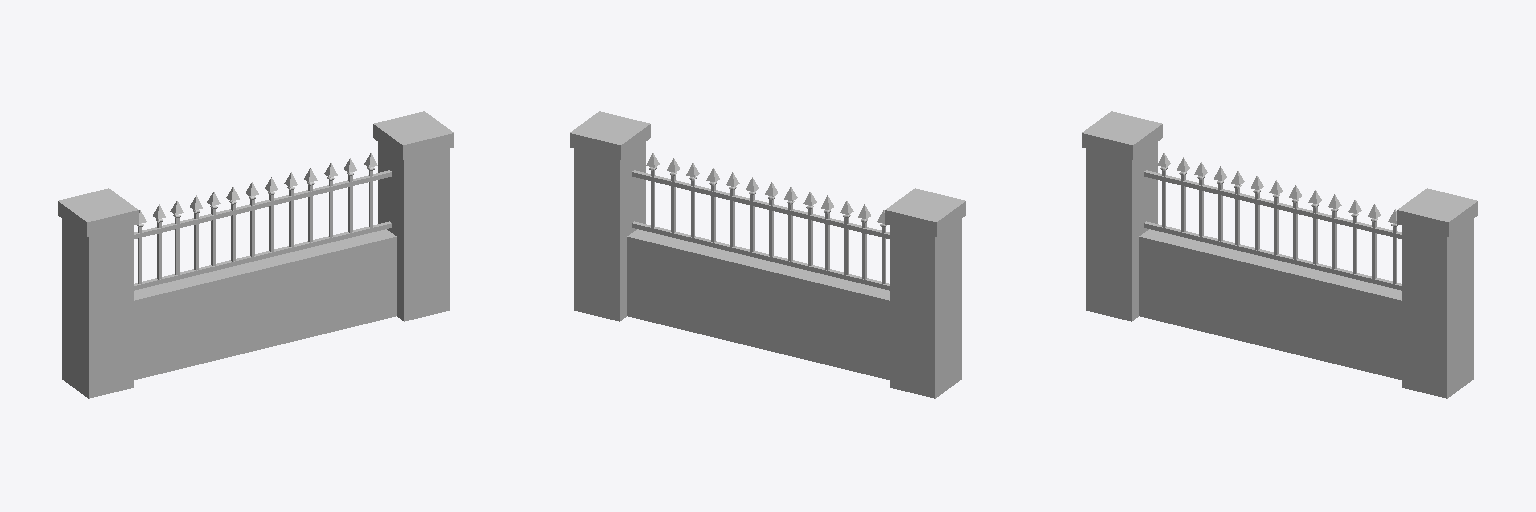
The model's file is wall.obj.
3 renders of one model, left to right at view 1: azimuth 30°, elevation 25°; view 2: azimuth 150°, elevation 25°; view 3: azimuth 330°, elevation 25°, orthographic.
Parts seen in each view (by area): view 1: pCube21.1; view 2: pCube21.1; view 3: pCube21.1.
Boxes of the visible parts, x1,y1,x2,y2 form: pCube21.1: [58, 111, 453, 398]; pCube21.1: [570, 111, 965, 398]; pCube21.1: [1082, 111, 1477, 398].
Size of the model in its own units: 11.63 by 5.4 by 1.63.